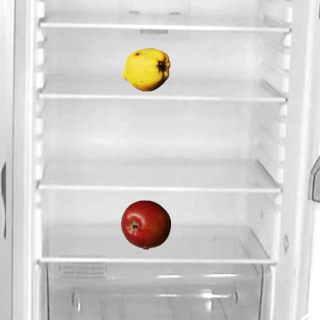Apple Braeburn: (120, 199, 170, 249)
Quince: (120, 44, 170, 94)
